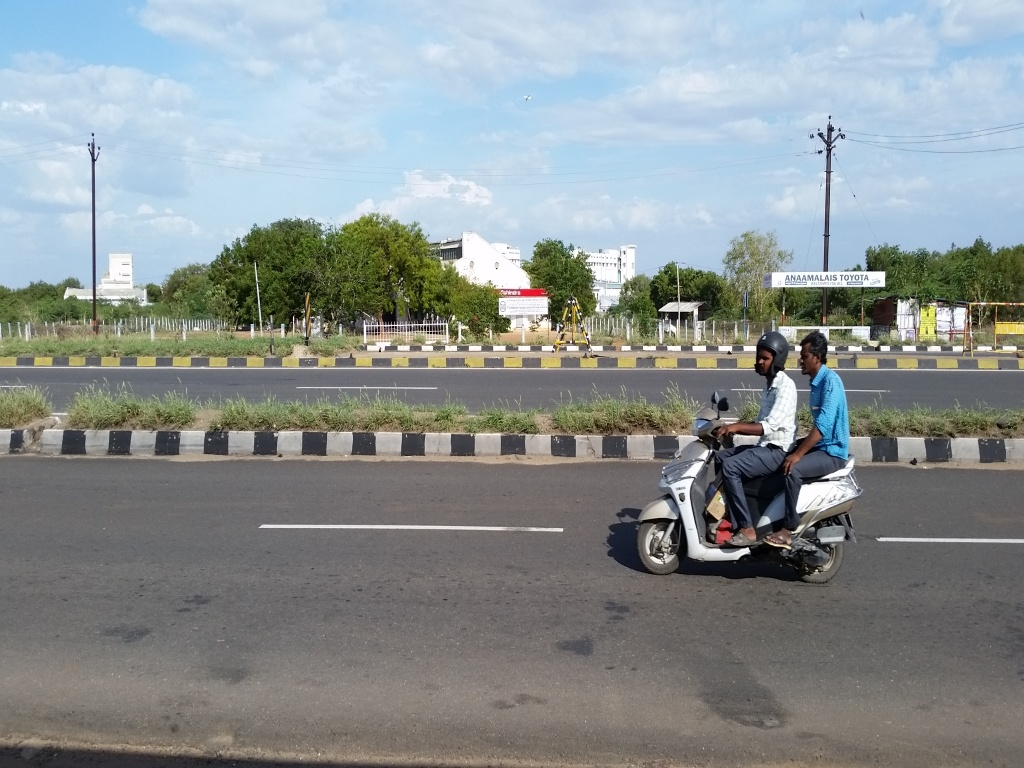biker: (617, 286, 893, 599)
helmet: (750, 323, 794, 388)
nohelmet: (793, 322, 837, 387)
